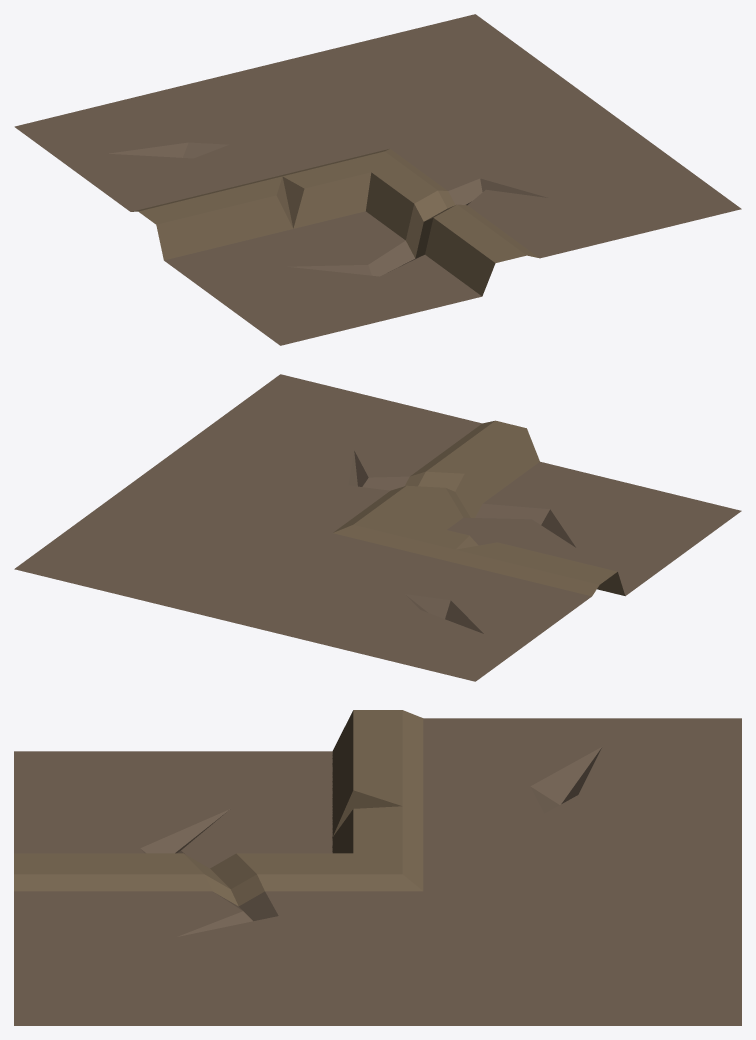
Rendered from LP_PostApoc_PavedInnerCornerSharp.fbx.
The picture shows the model from 3 angles, top to bottom: view 1: azimuth 30°, elevation 25°; view 2: azimuth 150°, elevation 25°; view 3: azimuth 270°, elevation 25°; orthographic projection. The views are drawn at different scales.
Parts seen in each view (by area): view 1: PavedInnerCornerSharp; view 2: PavedInnerCornerSharp; view 3: PavedInnerCornerSharp.
Boxes of the visible parts, x1,y1,x2,y2 form: PavedInnerCornerSharp: [14, 14, 741, 345]; PavedInnerCornerSharp: [14, 374, 741, 681]; PavedInnerCornerSharp: [14, 710, 741, 1025].
Size of the model in its own units: 400 by 34.18 by 400.
